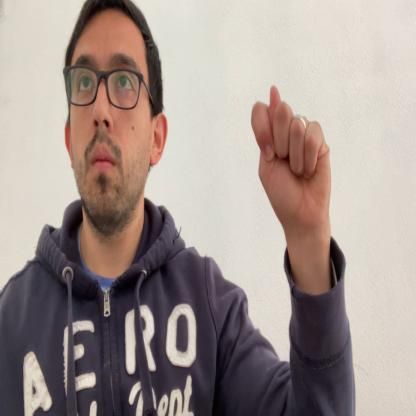T: (252, 85, 332, 241)
